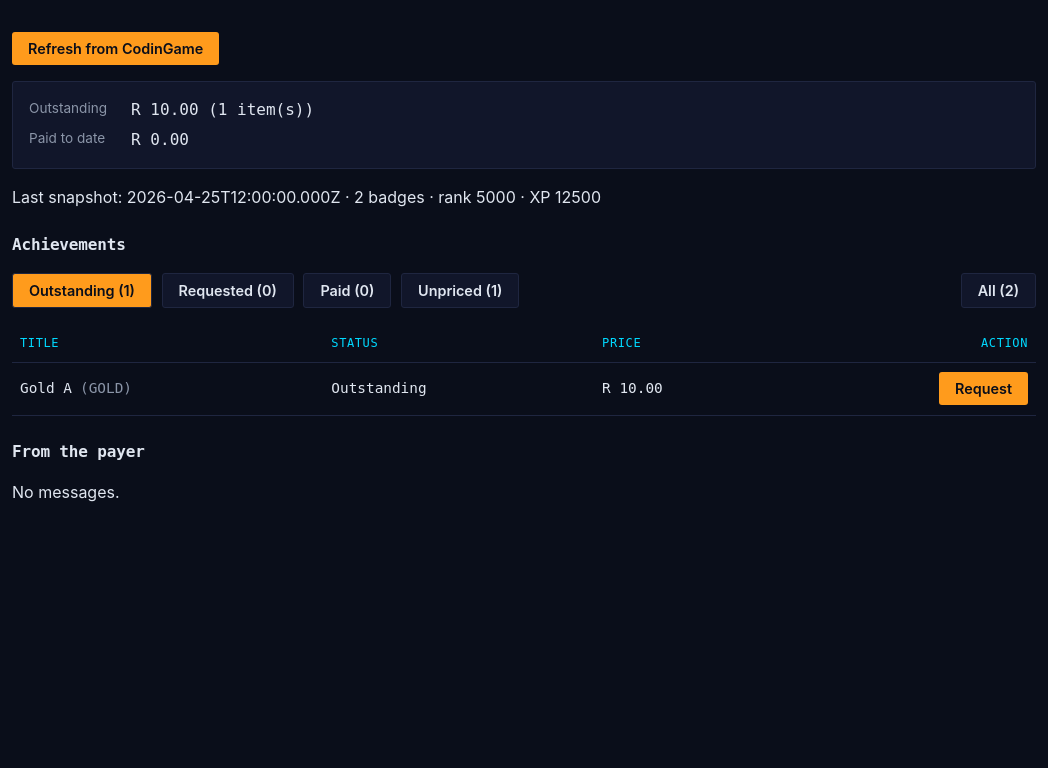
Test: PlayerView › shows surface error when refresh fails
This screenshot has width=1048, height=768.
Expected: the text "Gold A" is shown, [20, 380, 72, 396]
Step 1. Click the button "Refresh from CodinGame" → {"x": 116, "y": 48}, box [12, 32, 219, 65]
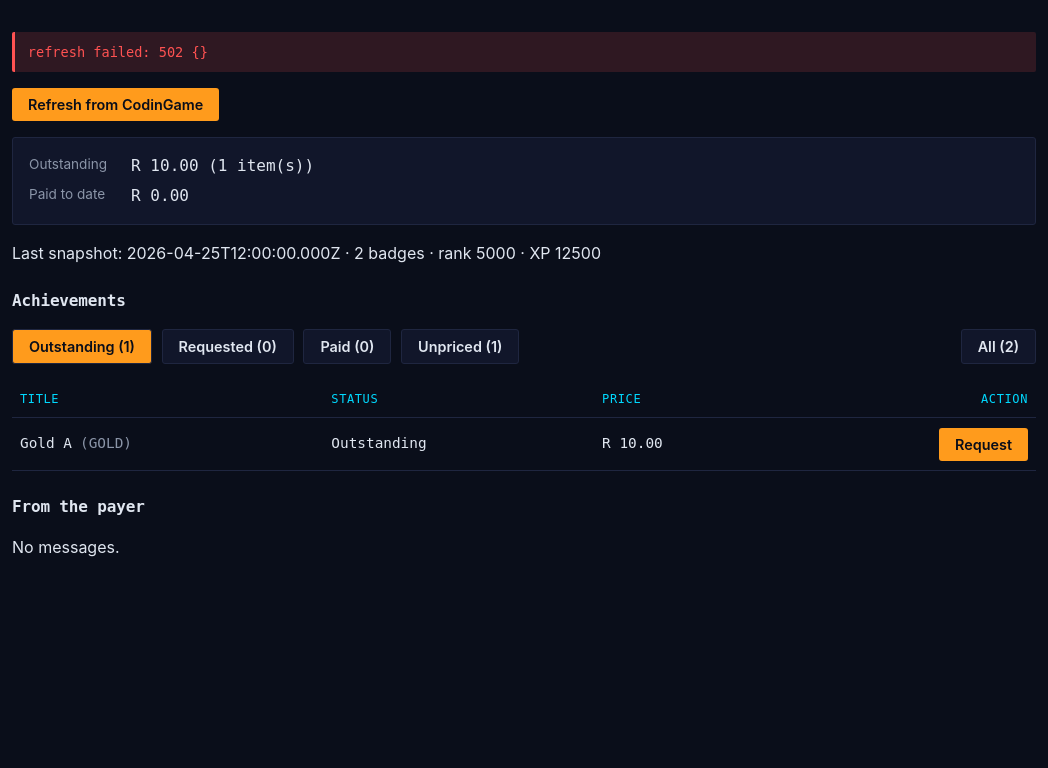
Now the message "refresh failed: 502 {}" is shown, box [12, 32, 1036, 72]
